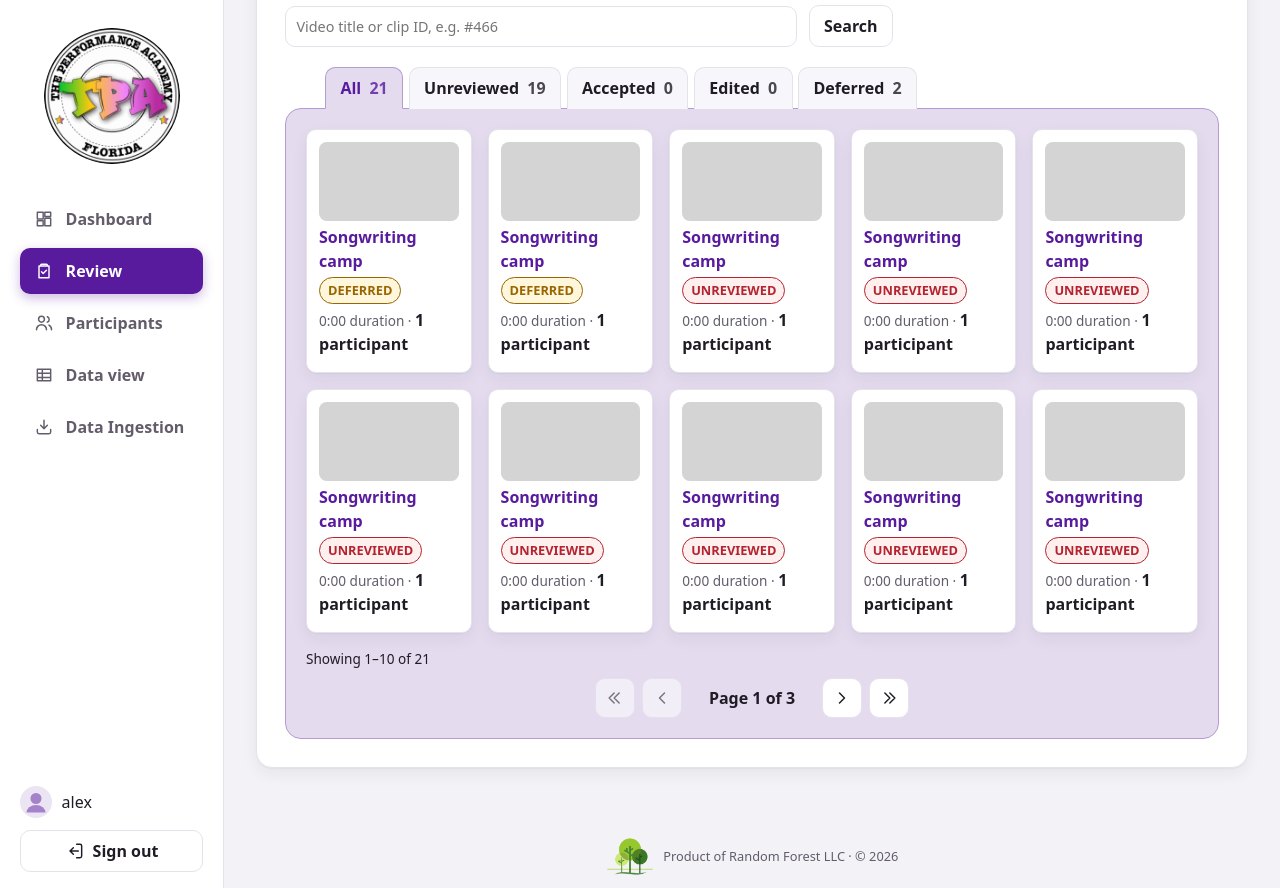
Test case: browses stored clips across pages using database IDs
The image size is (1280, 888).
(page scrolled)
Check: the text "Showing 1–10 of 21" is shown, box 306,649 -> 430,668
Check: the text "Page 1 of 3" is shown, box 709,687 -> 795,709
Click the button named "Next page".
click(842, 698)  # box 822,678 -> 862,718
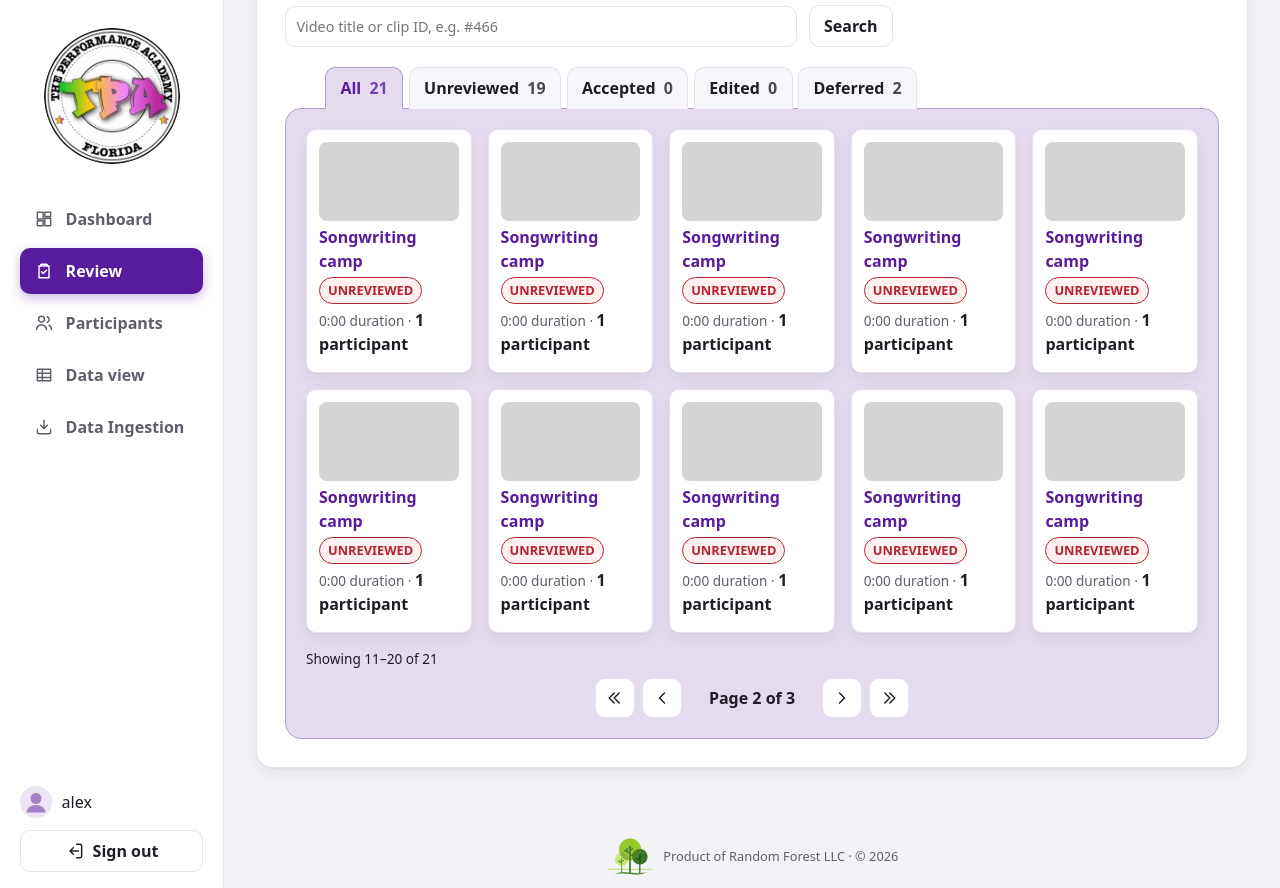
Check: the text "Showing 11–20 of 21" is shown, box 306,649 -> 438,668
Click the button named "Last page".
click(889, 698)  # box 869,678 -> 909,718
(page scrolled)
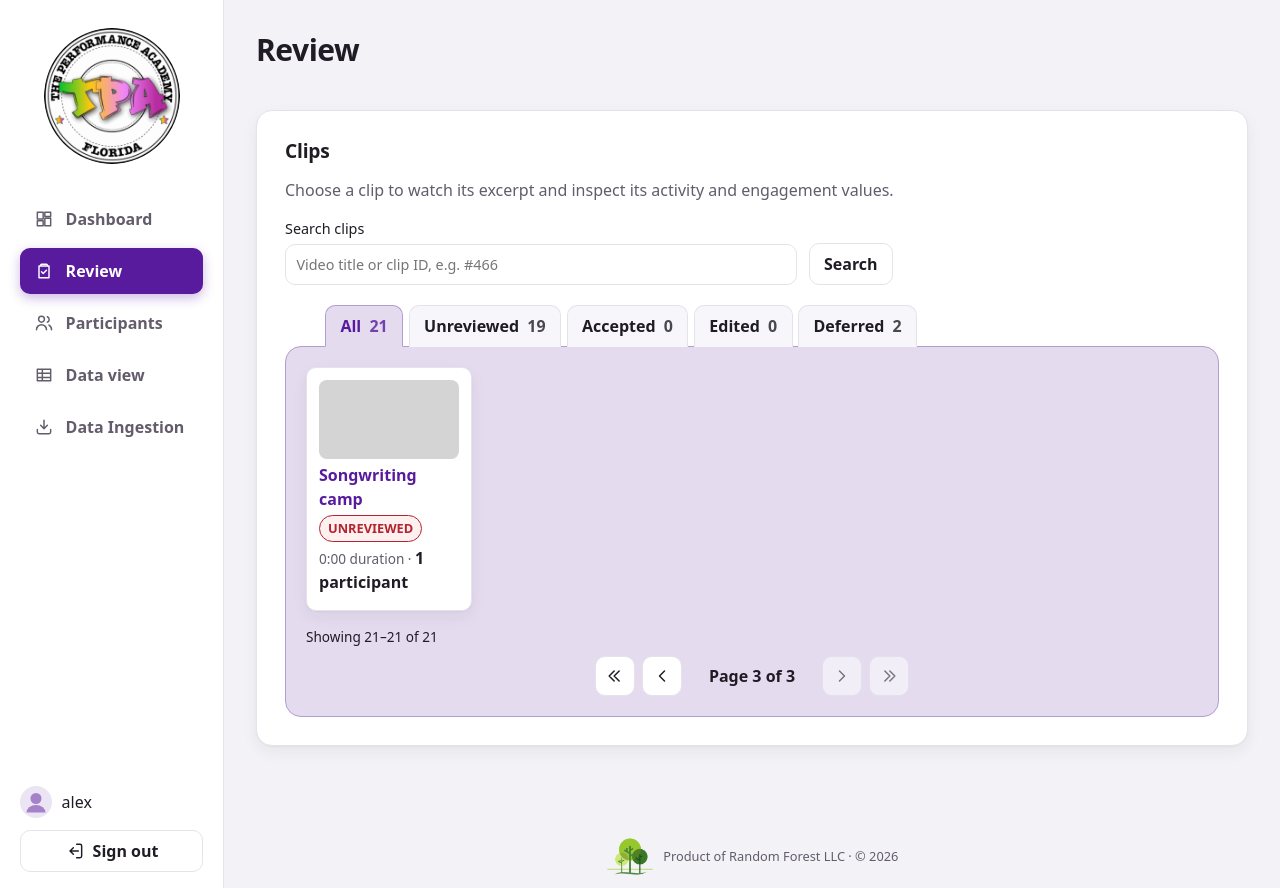
Check: the text "Showing 21–21 of 21" is shown, box 306,627 -> 438,646
Check: the text "Page 3 of 3" is shown, box 709,665 -> 795,687
Check: the button named "Next page" is disabled, box 822,656 -> 862,696
Click the button named "Previous page".
click(662, 676)  # box 642,656 -> 682,696
(page scrolled)
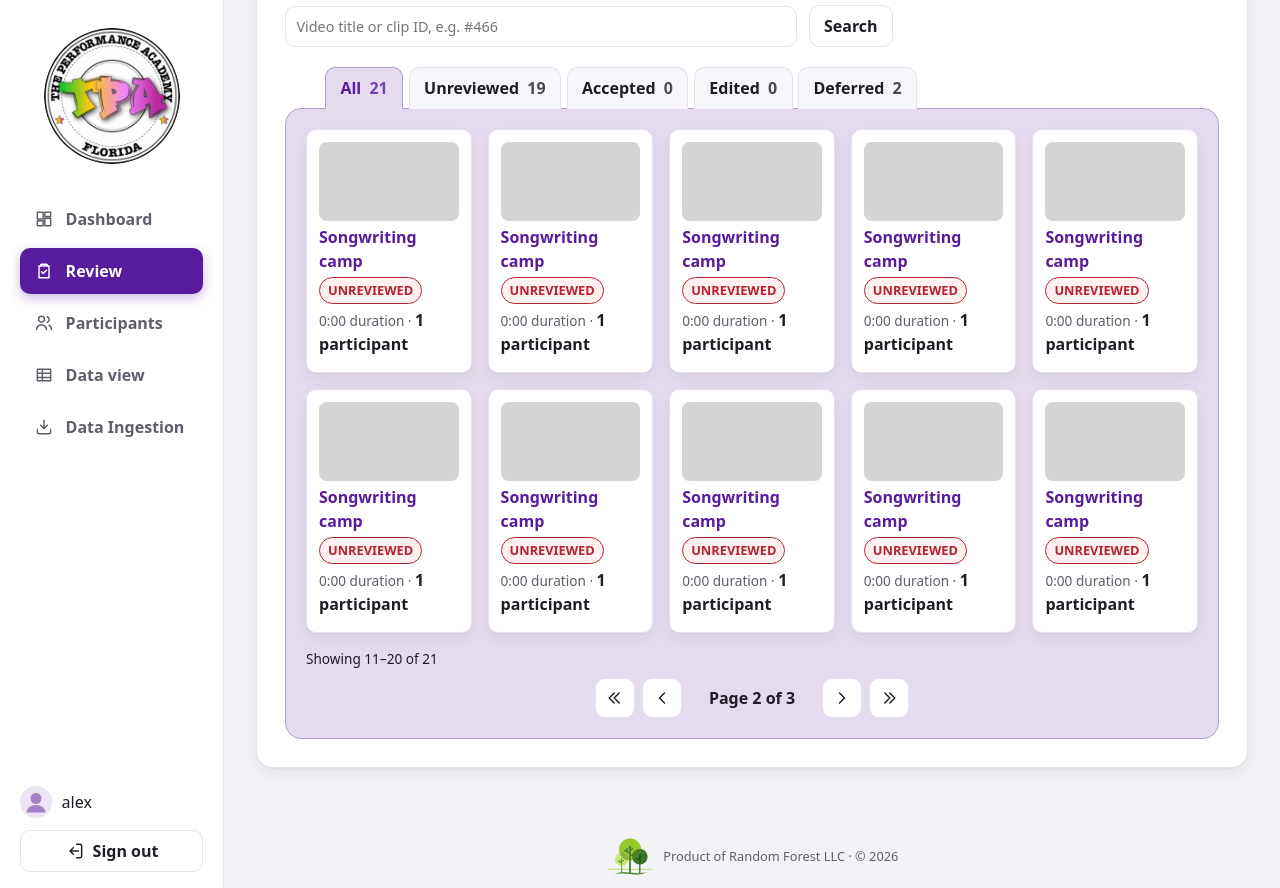
Check: the text "Showing 11–20 of 21" is shown, box 306,649 -> 438,668
Click the button named "First page".
click(615, 698)  # box 595,678 -> 635,718
(page scrolled)
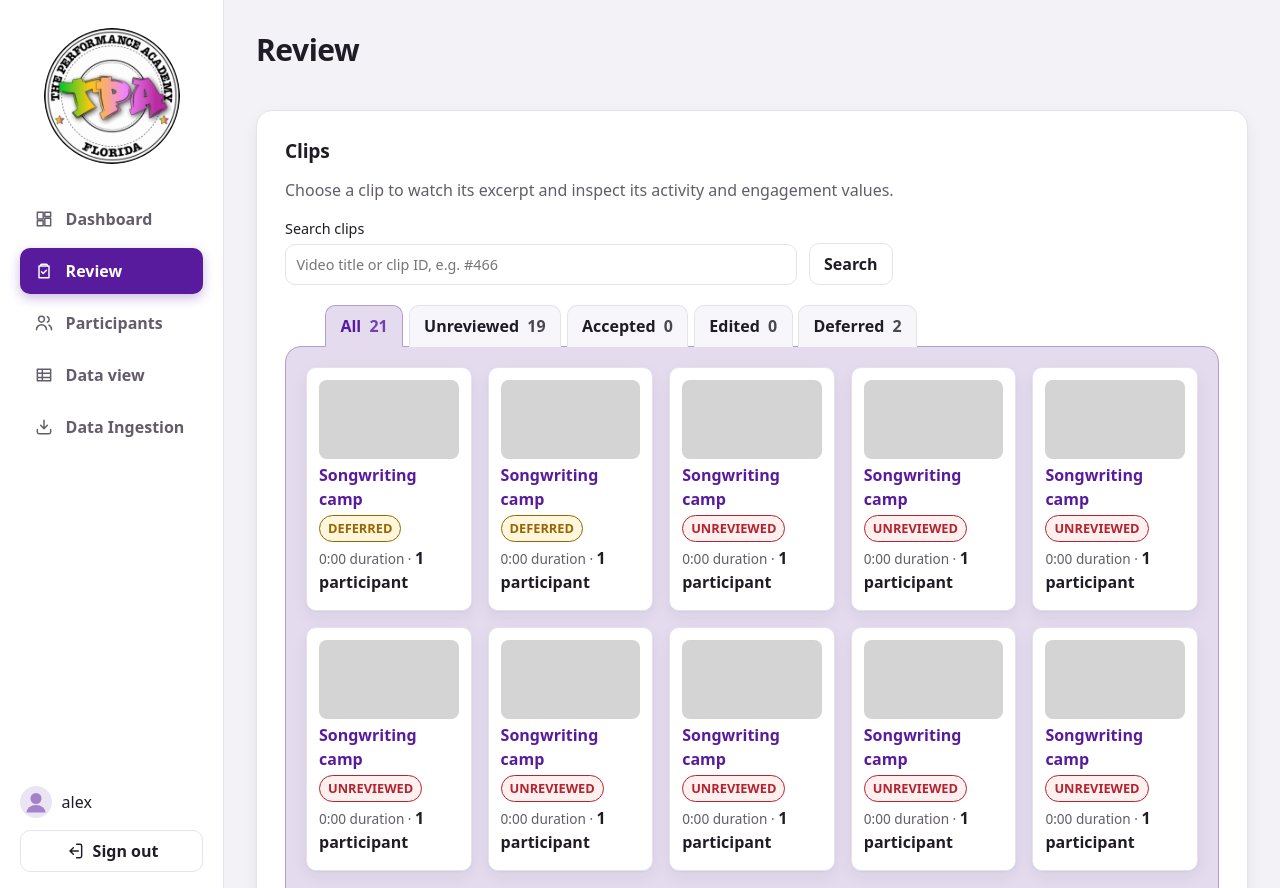
Click the button "Deferred 2".
click(858, 326)  # box 798,305 -> 917,347
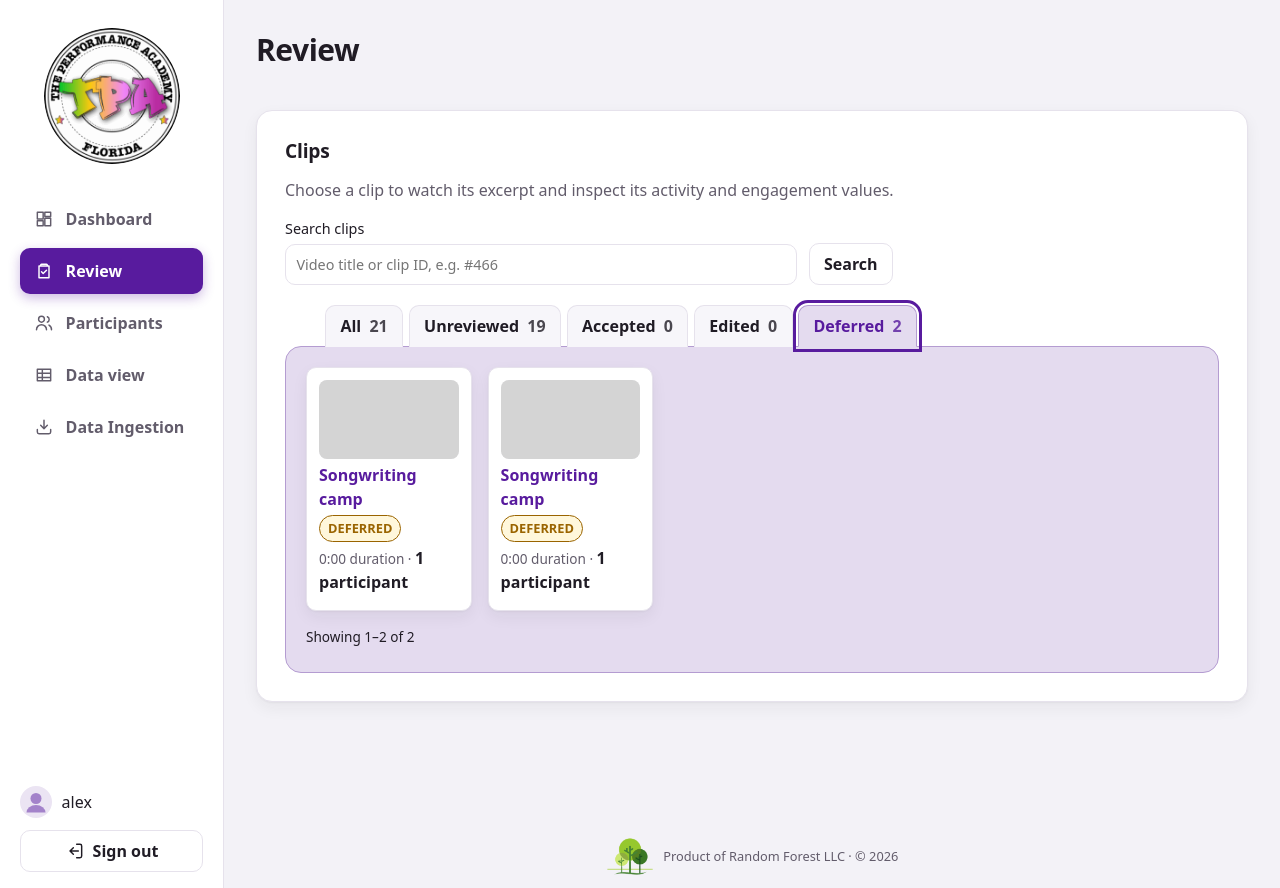
Check: the text "Showing 1–2 of 2" is shown, box 306,627 -> 414,646
Click the button "Accepted 0".
click(627, 326)  # box 567,305 -> 688,347
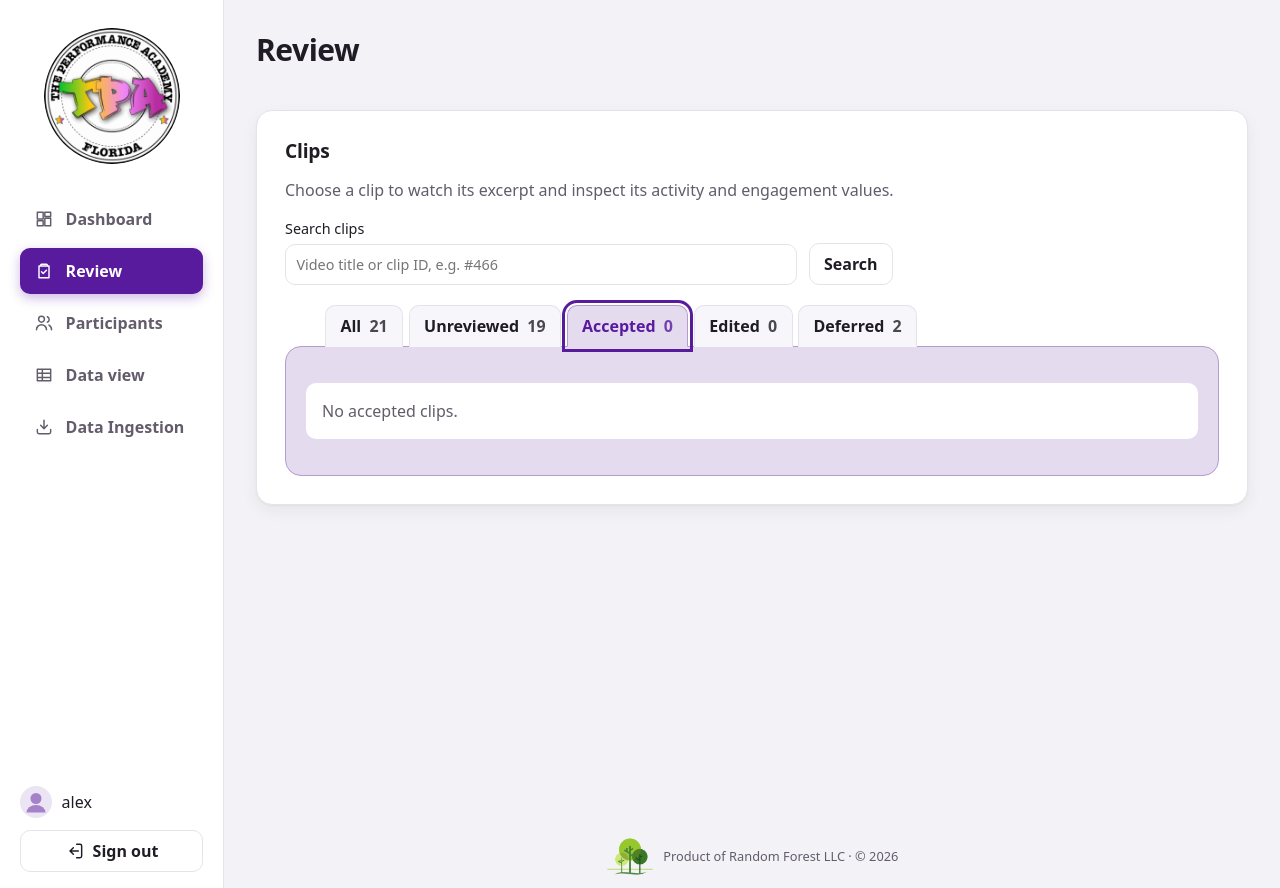
Check: the text "No accepted clips." is shown, box 306,383 -> 1198,439
